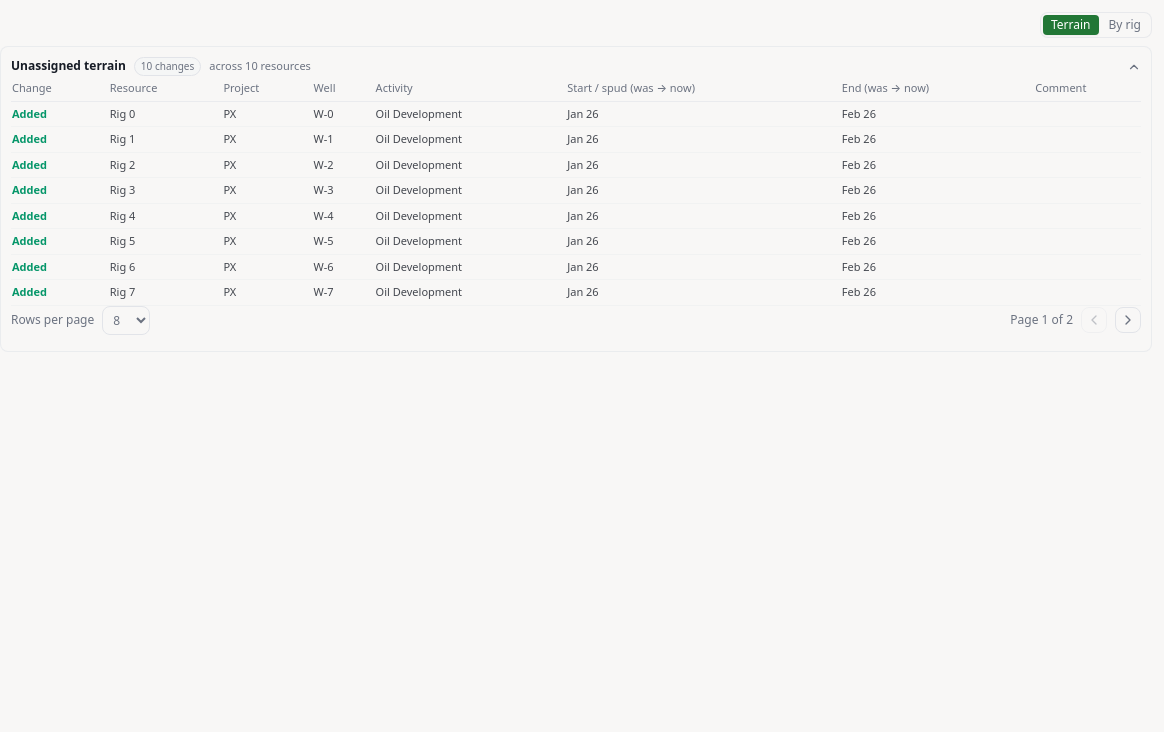
it: ChangeNotesEditor progressive disclosure › collapses per-rig groups to headers with counts on a large diff
Click the tab with test id "grouping-resource": [1125, 25] box [1100,15,1149,35]
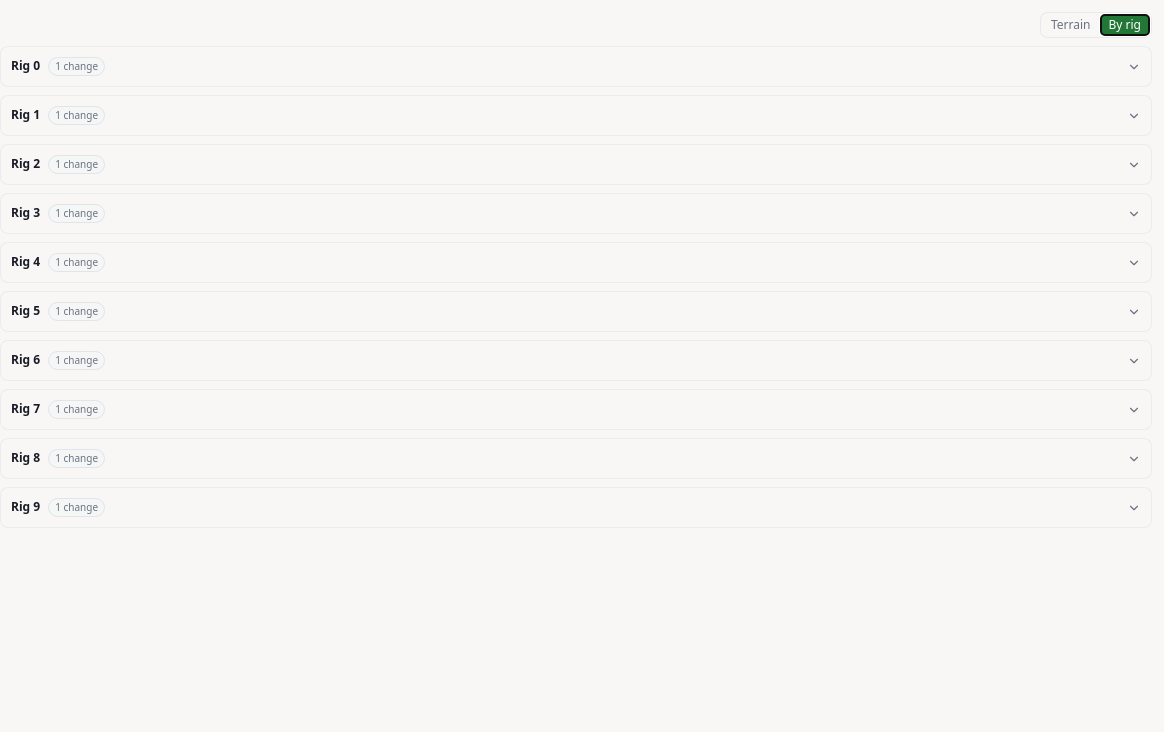
expect the number of buttons with test id "diff-group-toggle" is 10: met
expect the text "1 change" is shown 10 times: met
expect the text "W-0" is gone: met
